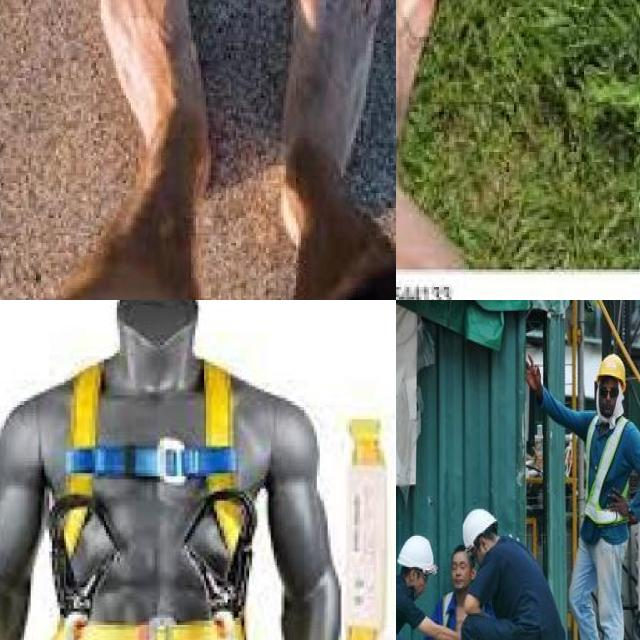Barefoots: (256, 0, 396, 247), (93, 0, 223, 211)
Harness: (37, 351, 270, 640)
face_nomask: (594, 380, 621, 416), (453, 550, 472, 594)
head_helmet: (401, 534, 436, 572), (462, 509, 499, 542), (602, 352, 624, 379)
head_nohelmet: (447, 537, 473, 557)
person: (564, 340, 640, 640), (460, 497, 567, 640), (443, 546, 474, 640)
vest: (582, 421, 634, 528)
